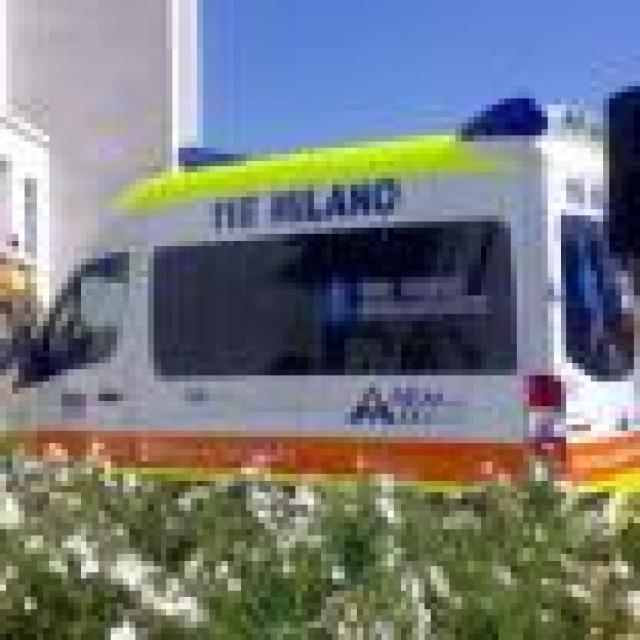emergency-vehicle: (0, 123, 628, 566)
